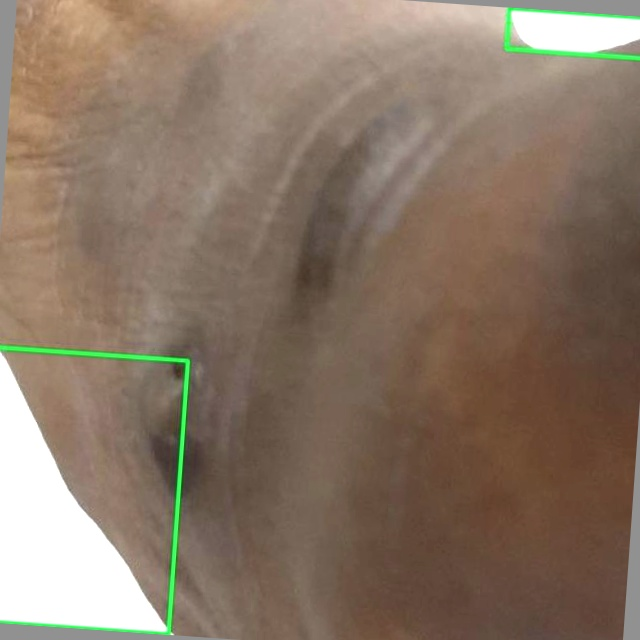Eczema: (0, 347, 187, 634), (506, 8, 639, 58)
